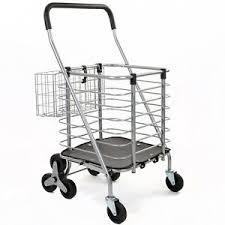with_basket: (35, 3, 185, 216)
